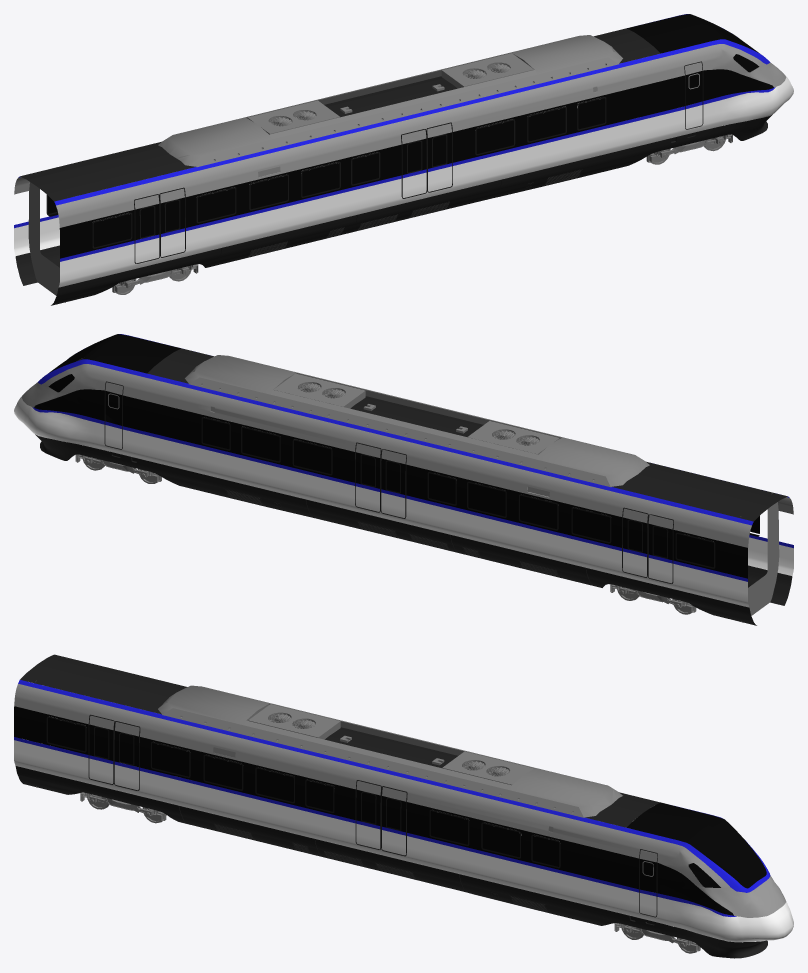
File: 城际列车车尾.fbx
The picture shows the model from 3 angles, top to bottom: view 1: azimuth 30°, elevation 25°; view 2: azimuth 150°, elevation 25°; view 3: azimuth 330°, elevation 25°; orthographic projection.
Visible parts, largest first — view 1: 城际列车尾_车体, 后构架, 前构架; view 2: 城际列车尾_车体, 后构架, 前构架; view 3: 城际列车尾_车体, 后构架, 前构架.
Part boxes in pixels (bbox=[...]): 城际列车尾_车体: bbox=[14, 14, 793, 305]; 后构架: bbox=[112, 264, 198, 292]; 前构架: bbox=[646, 126, 732, 162]; 城际列车尾_车体: bbox=[14, 334, 793, 625]; 后构架: bbox=[610, 584, 696, 612]; 前构架: bbox=[75, 445, 161, 481]; 城际列车尾_车体: bbox=[14, 654, 793, 958]; 后构架: bbox=[80, 792, 166, 820]; 前构架: bbox=[614, 923, 700, 951].
Size of the model in its own units: 3000 by 478 by 337.
